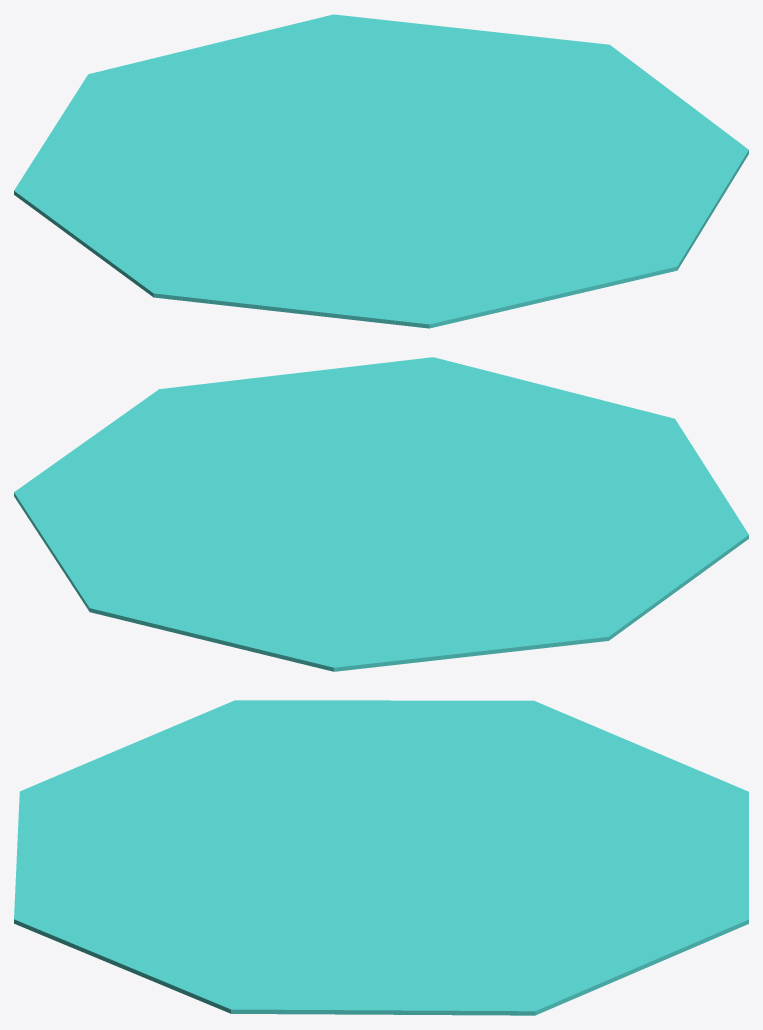
The model's file is zonaInicial.fbx.
3 views of the same model, one above another, from view 1: azimuth 30°, elevation 25°; view 2: azimuth 150°, elevation 25°; view 3: azimuth 270°, elevation 25° (orthographic). The views are drawn at different scales.
Visible parts, largest first — view 1: Curve.004; view 2: Curve.004; view 3: Curve.004.
Part boxes in pixels (x1,y1,x2,y2): Curve.004: (14,14,748,328); Curve.004: (14,357,748,671); Curve.004: (14,700,748,1015).
Bounding box in the file's own units: 4228 × 27.77 × 4224.
